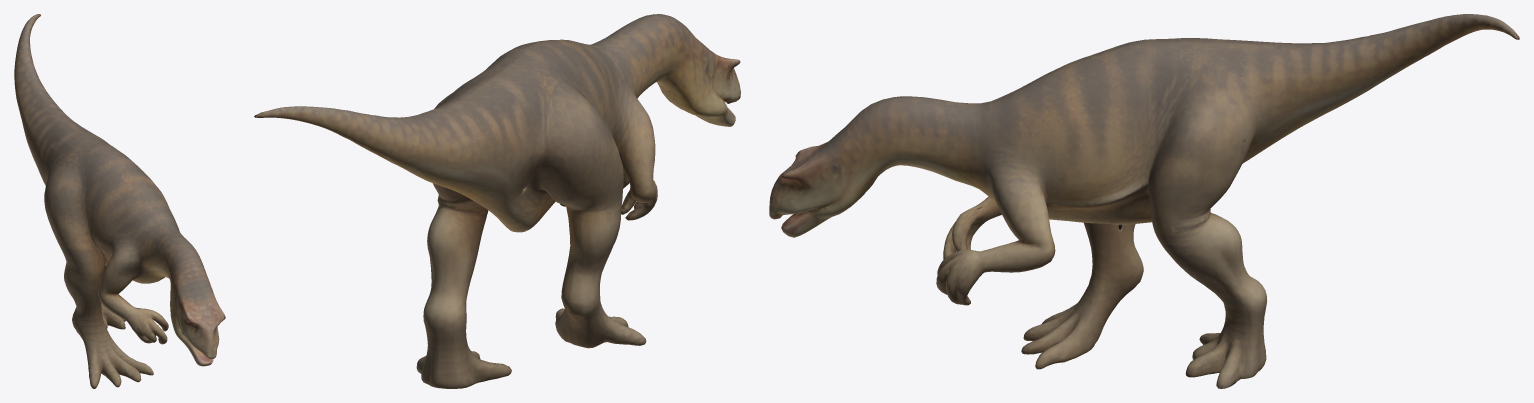
3 renders of one model, left to right at view 1: azimuth 30°, elevation 25°; view 2: azimuth 150°, elevation 25°; view 3: azimuth 270°, elevation 25°, orthographic. The views are drawn at different scales.
Visible parts, largest first — view 1: world; view 2: world; view 3: world.
Boxes of the visible parts, x1=… form: world: x1=14, y1=14, x2=225, y2=388; world: x1=254, y1=14, x2=740, y2=388; world: x1=769, y1=14, x2=1519, y2=388.
Bounding box in the file's own units: 1.96 × 4.11 × 7.5.
1 material, 1 textured.
